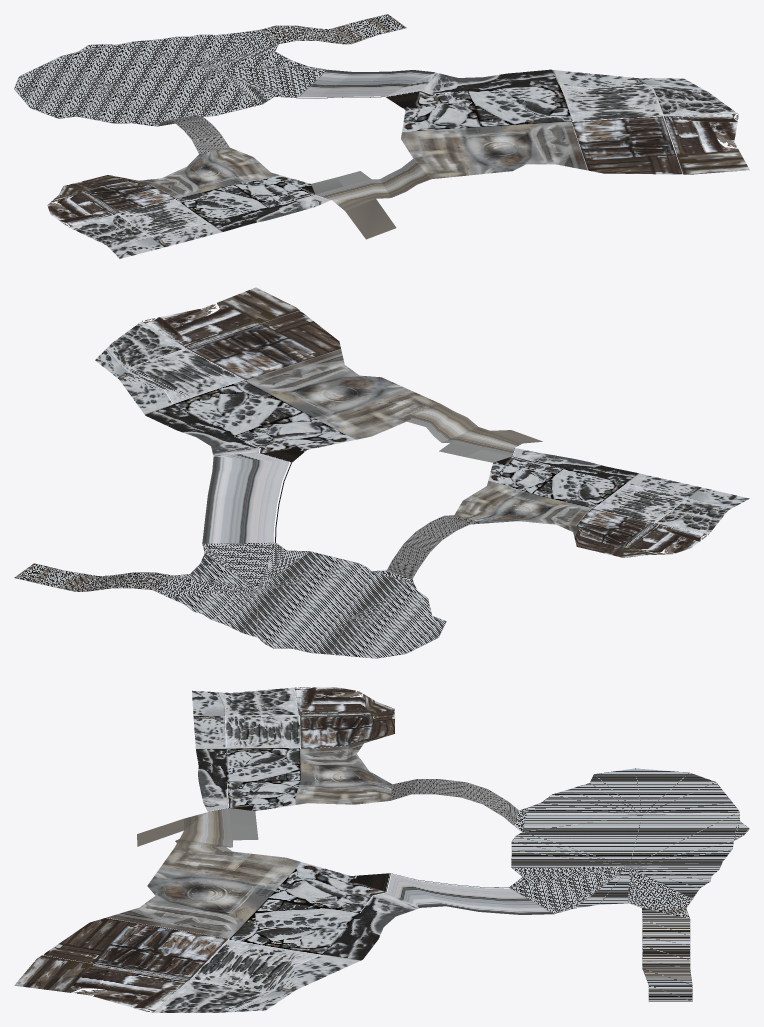
Rendered from 5014_Item_pengzhuang.FBX.
3 renders of one model, top to bottom at view 1: azimuth 30°, elevation 25°; view 2: azimuth 150°, elevation 25°; view 3: azimuth 270°, elevation 25°, orthographic. The views are drawn at different scales.
Visible parts, largest first — view 1: 5014_Item_pengzhuang; view 2: 5014_Item_pengzhuang; view 3: 5014_Item_pengzhuang.
Part boxes in pixels (x1,y1,x2,y2): 5014_Item_pengzhuang: [14, 14, 749, 258]; 5014_Item_pengzhuang: [14, 287, 749, 658]; 5014_Item_pengzhuang: [14, 687, 749, 1012].
Size of the model in its own units: 7490 by 550 by 6883.
